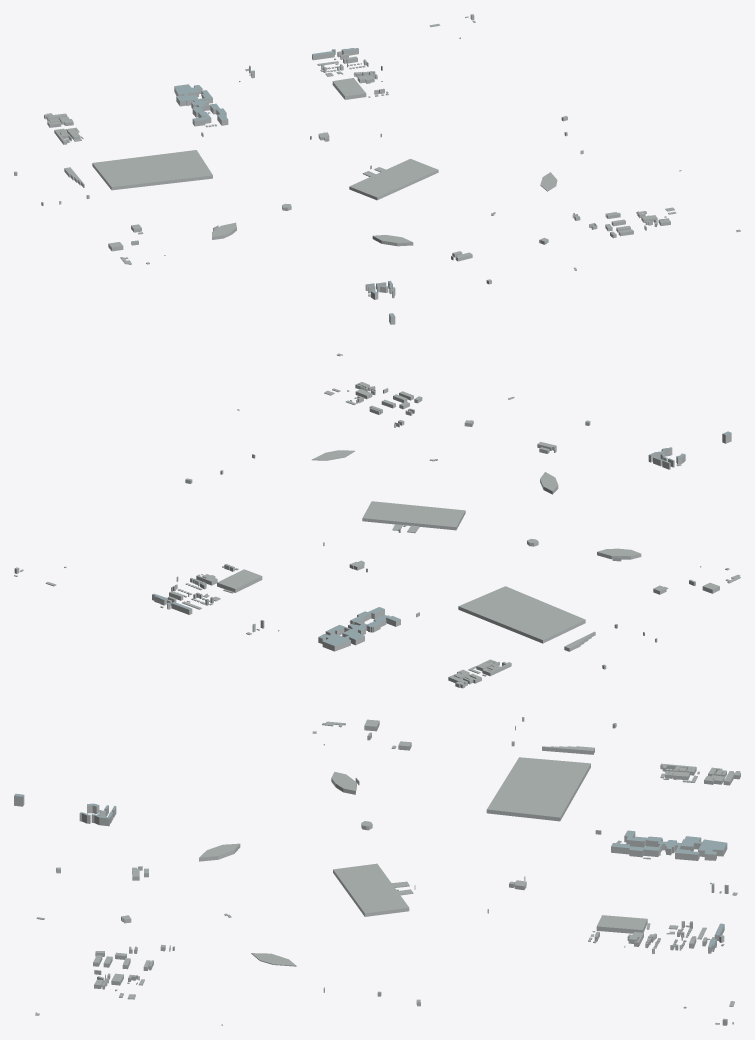
File: far.glb
3 views of the same model, one above another, from view 1: azimuth 30°, elevation 25°; view 2: azimuth 150°, elevation 25°; view 3: azimuth 270°, elevation 25° (orthographic). The views are drawn at different scales.
Bounding box in the file's own units: 2019 × 30.4 × 2033.
